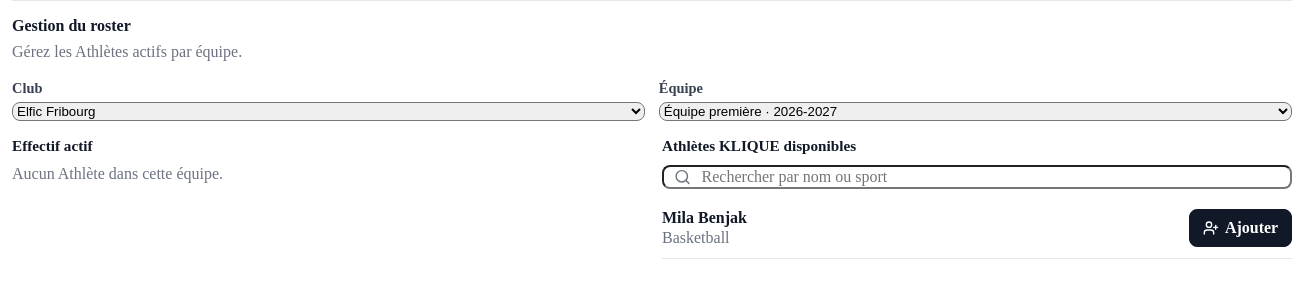
Test: Club roster Admin UI › refreshes a stale roster and shows neutral feedback after a POST conflict
Expected: the text "Aucun Athlète dans cette équipe." is shown, [12, 165, 223, 182]
Expected: the element showing "Mila Benjak Basketball Ajouter" is shown, [662, 199, 1292, 259]
Click the button with aria-label "Ajouter Mila Benjak": (1240, 228) [1189, 209, 1292, 247]
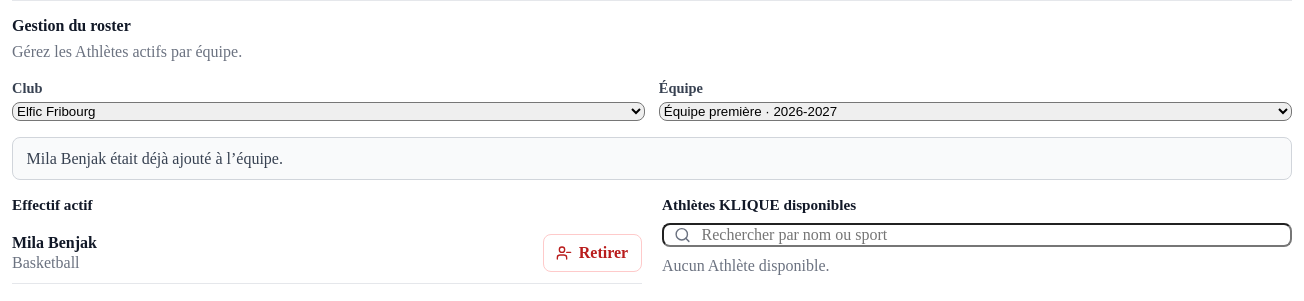
Expected: the element showing "Mila Benjak Basketball Retirer" is shown, [12, 223, 642, 284]
Expected: the message "Mila Benjak était déjà ajouté à l’équipe." is shown, [12, 137, 1292, 180]
